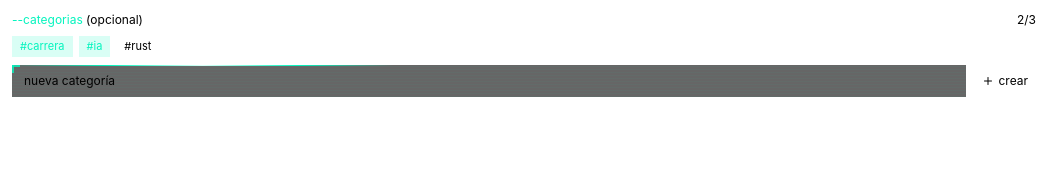
Test: TopicPicker › stops at three categories and ignores names too short to be one
This screenshot has width=1048, height=172.
Type "¡" into the field labelled "nueva categoría".
click(489, 80); type("¡")  # box [12,64,966,96]
Then press Enter
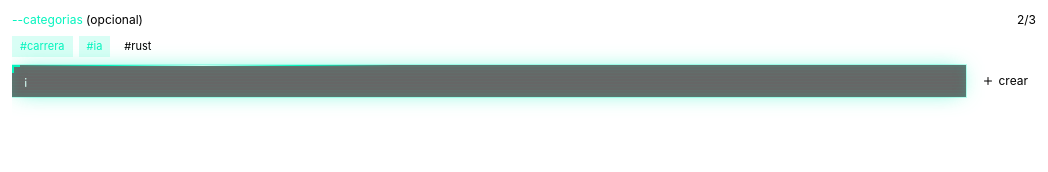
Expected: the text "2/3" is shown, [1017,12,1036,28]
Replace the text in the field named "nueva categoría" with "go" at (489, 80), box [12,64,966,96]
Then press Enter
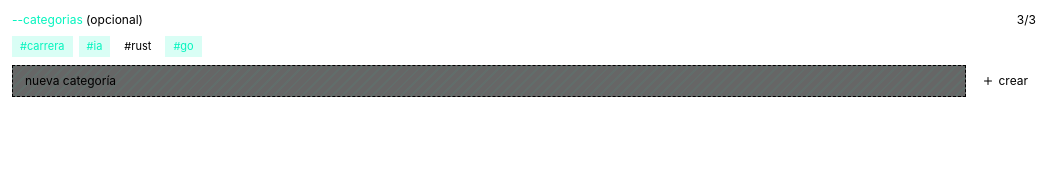
Expected: the button "#rust" is disabled, [116,36,159,56]
Expected: the text "3/3" is shown, [1017,12,1036,28]
Expected: the field labelled "nueva categoría" is disabled, [12,64,966,96]
